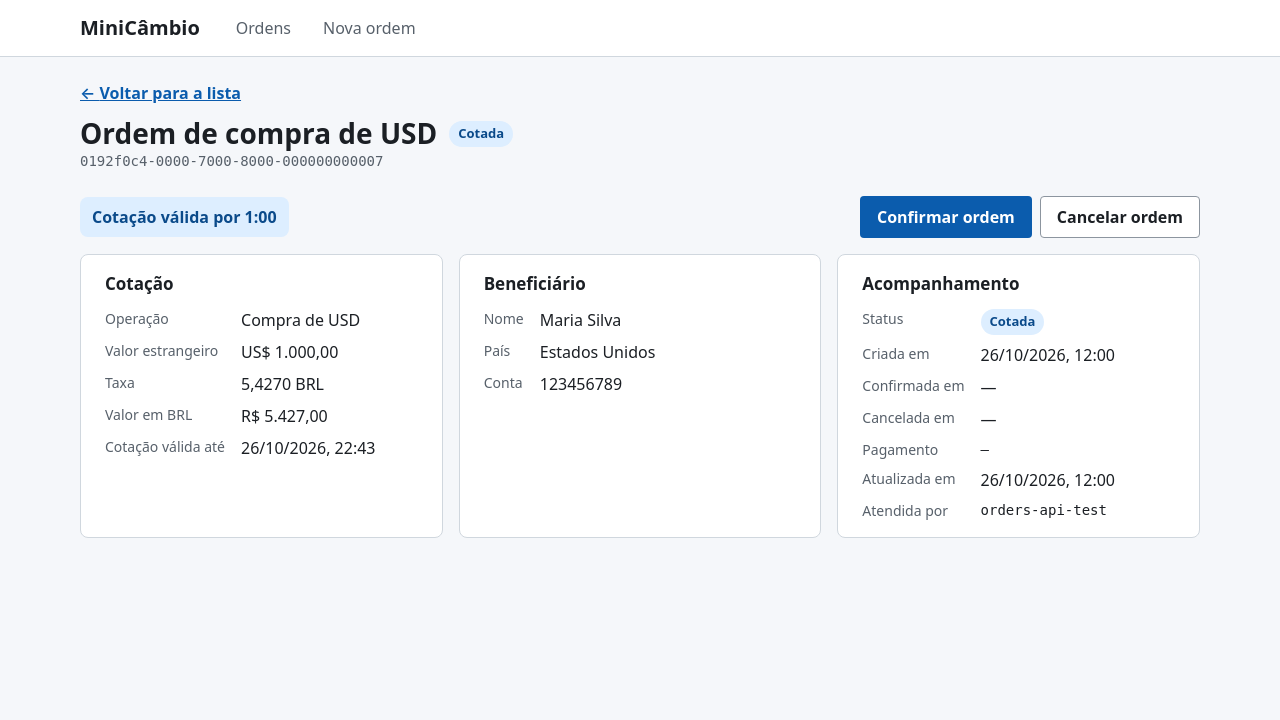
Test: OrderDetailsPage › confirmar no diálogo cancela a ordem e anuncia o resultado
Click the button "Cancelar ordem".
click(1120, 217)  # box x1=1040 y1=196 x2=1200 y2=238
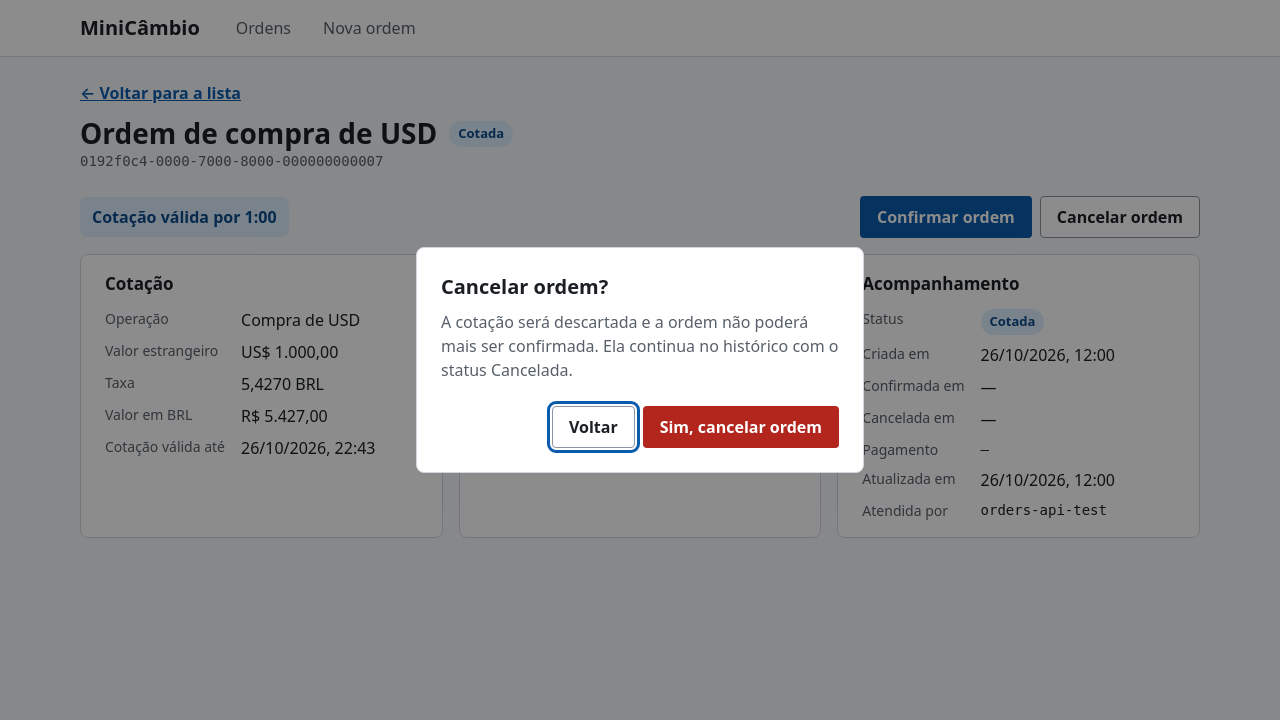
Click the button "Sim, cancelar ordem".
click(741, 427)  # box x1=643 y1=406 x2=839 y2=448
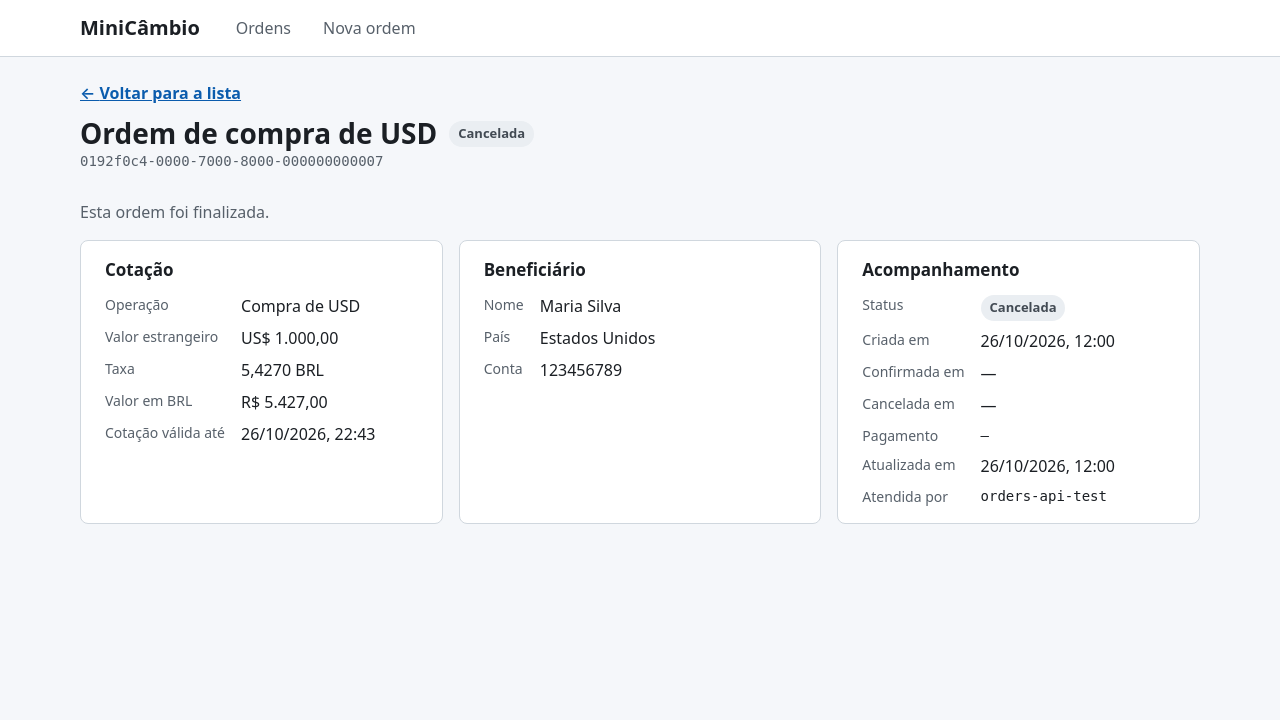
Expected: the dialog is gone
Expected: the button "Cancelar ordem" is gone
